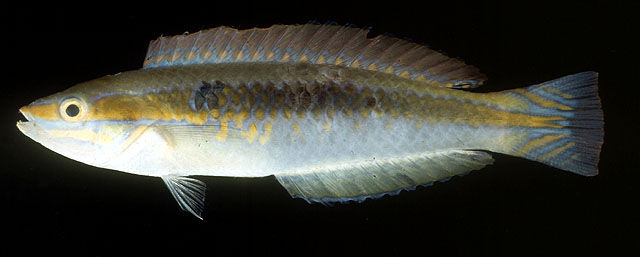fish: (16, 25, 605, 221)
